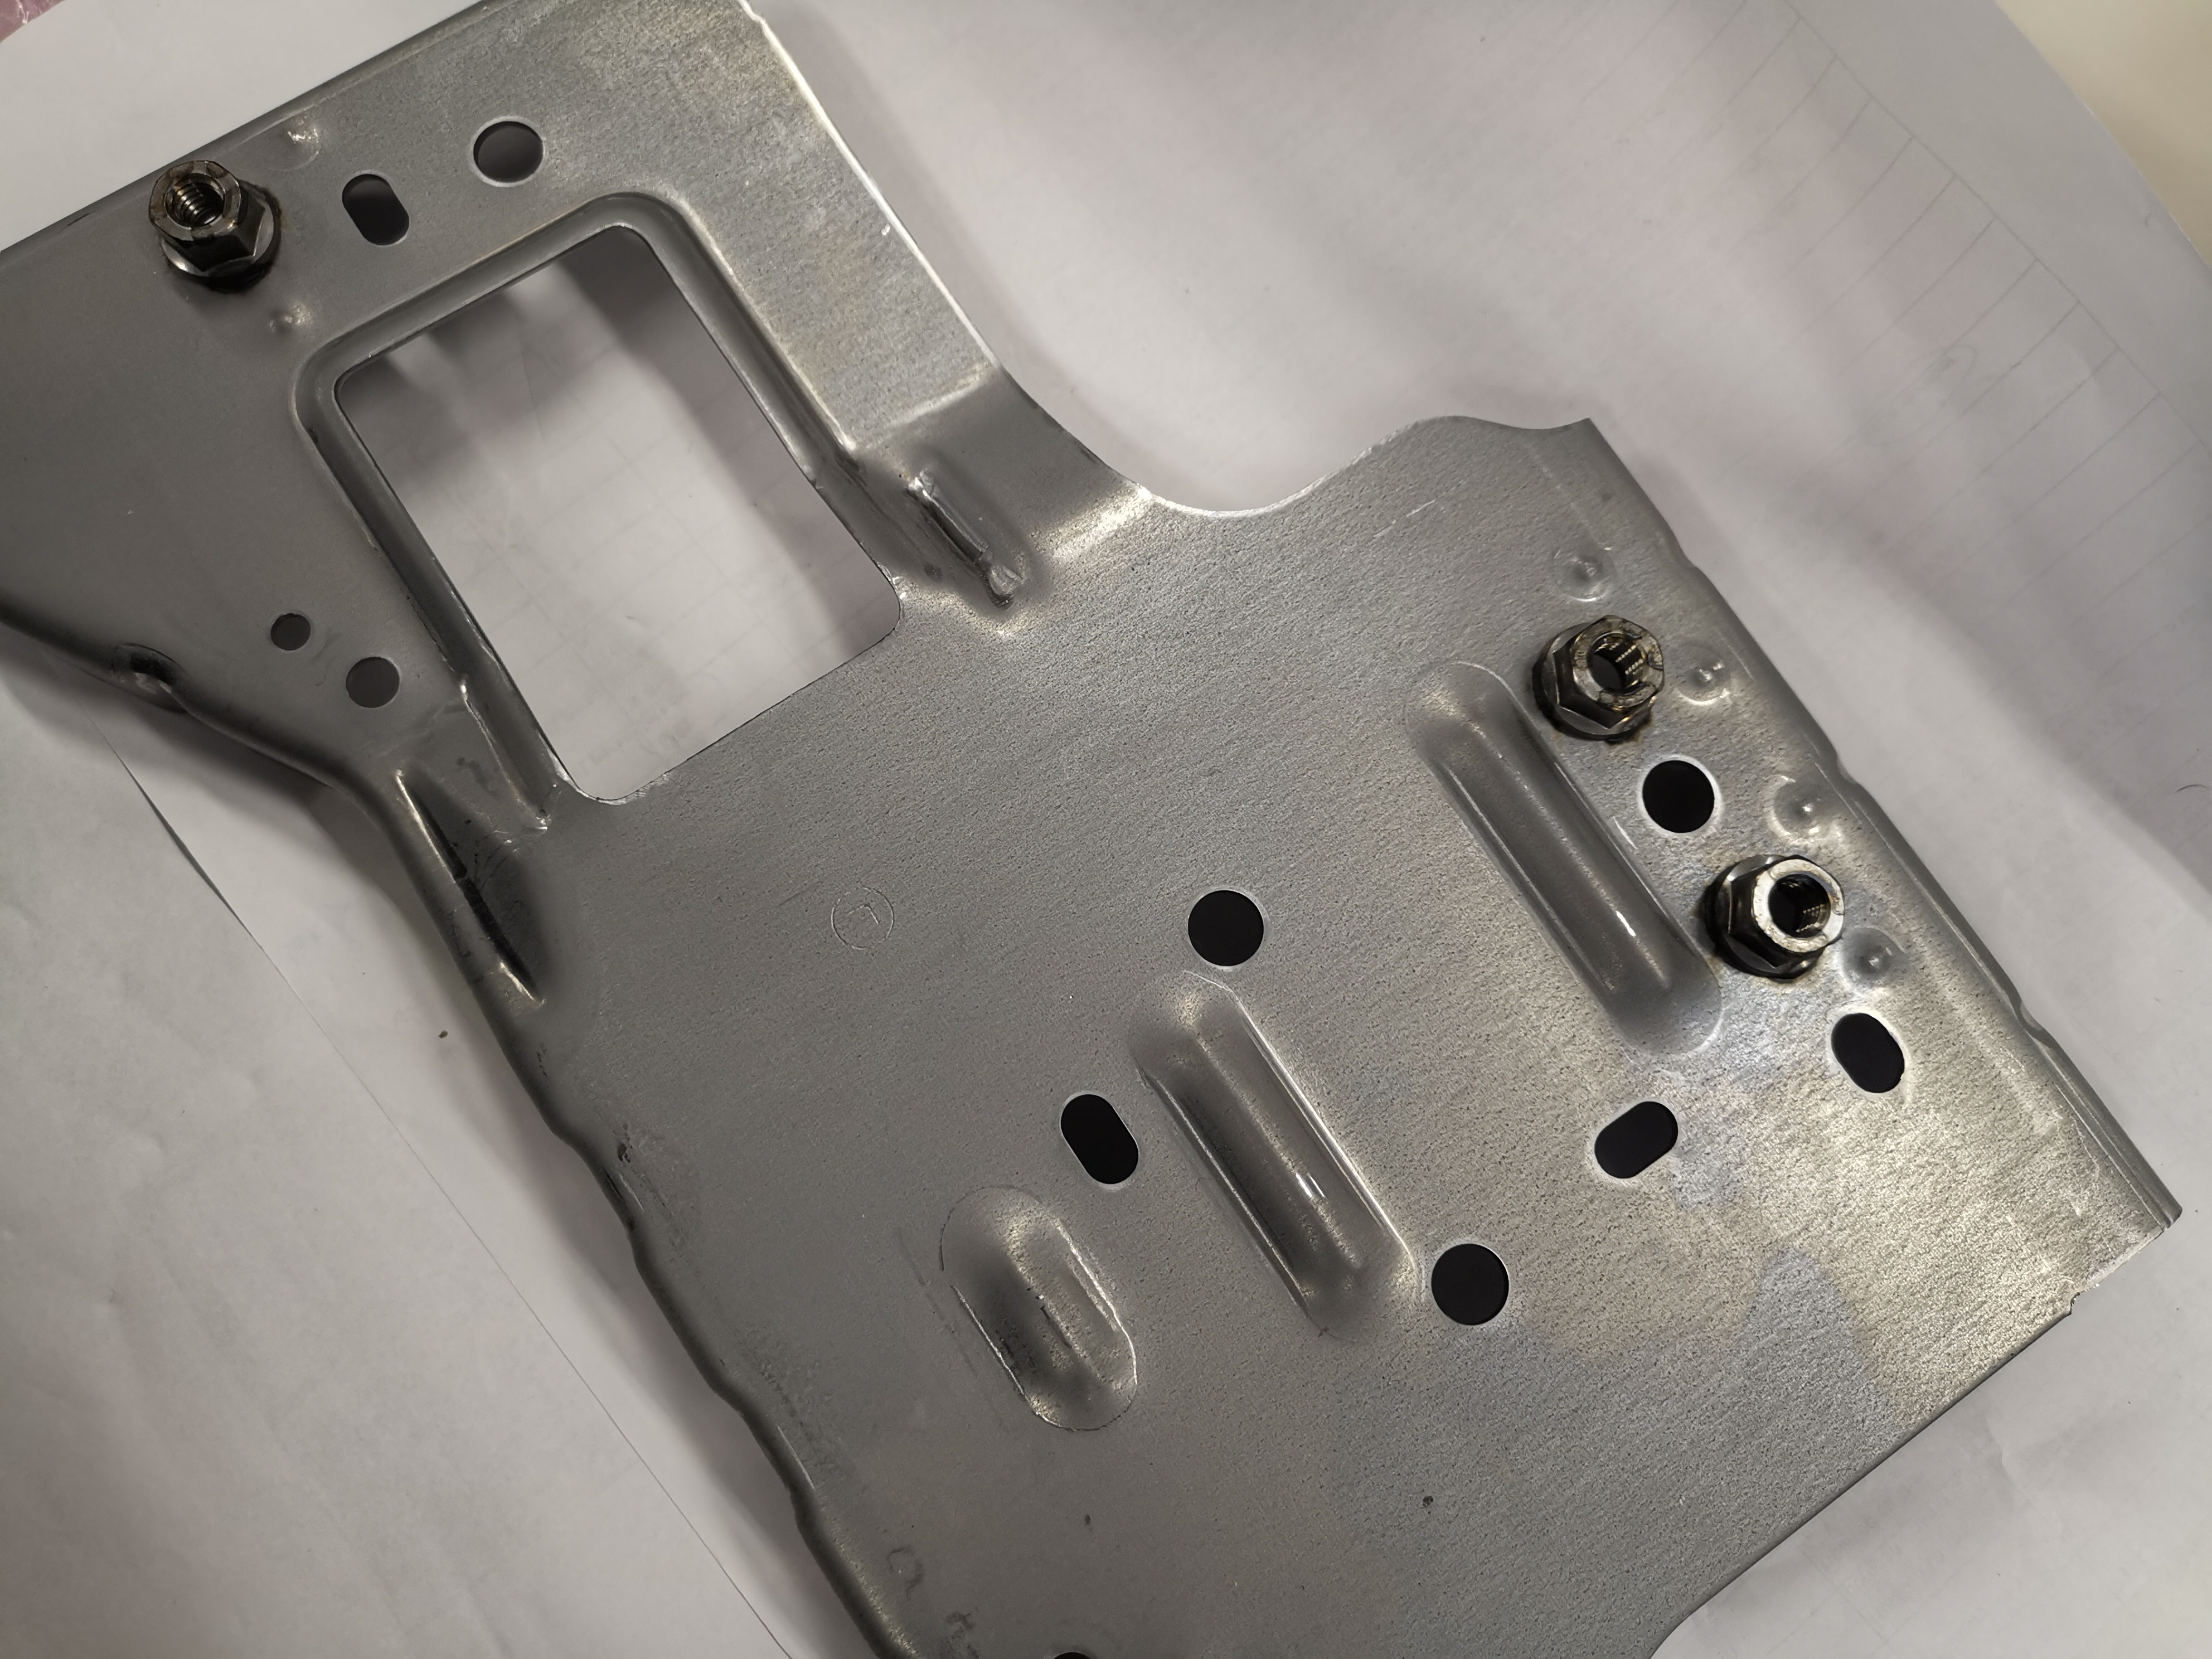dog: (1702, 850, 1851, 986), (145, 157, 287, 295), (1531, 610, 1670, 748)
